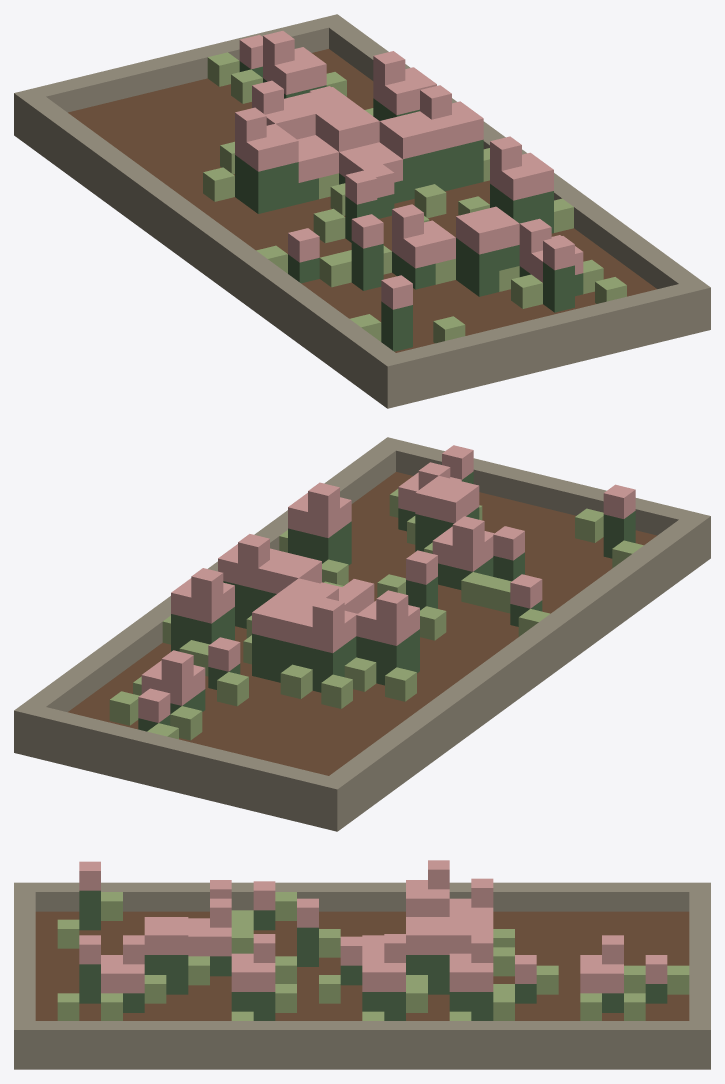
Rendered from hearthvale_garden_flowers_16x32.obj.
The picture shows the model from 3 angles, top to bottom: view 1: azimuth 30°, elevation 25°; view 2: azimuth 150°, elevation 25°; view 3: azimuth 270°, elevation 25°; orthographic projection. The views are drawn at different scales.
Parts seen in each view (by area): view 1: palette_1, palette_5, palette_2, palette_3, palette_4; view 2: palette_1, palette_2, palette_5, palette_3, palette_4; view 3: palette_1, palette_2, palette_5, palette_4, palette_3.
Part boxes in pixels (x1,y1,x2,y2): palette_1: (14, 14, 710, 408); palette_5: (235, 31, 583, 309); palette_2: (68, 49, 656, 352); palette_3: (235, 61, 583, 351); palette_4: (203, 52, 626, 343); palette_1: (14, 437, 710, 831); palette_2: (68, 472, 656, 775); palette_5: (138, 445, 635, 722); palette_3: (138, 471, 635, 731); palette_4: (109, 489, 643, 740); palette_1: (14, 882, 710, 1069); palette_2: (35, 911, 689, 1020); palette_5: (79, 860, 667, 993); palette_4: (57, 892, 689, 1020); palette_3: (79, 890, 667, 1020).
Bounding box in the file's own units: 1 × 0.3125 × 2.
